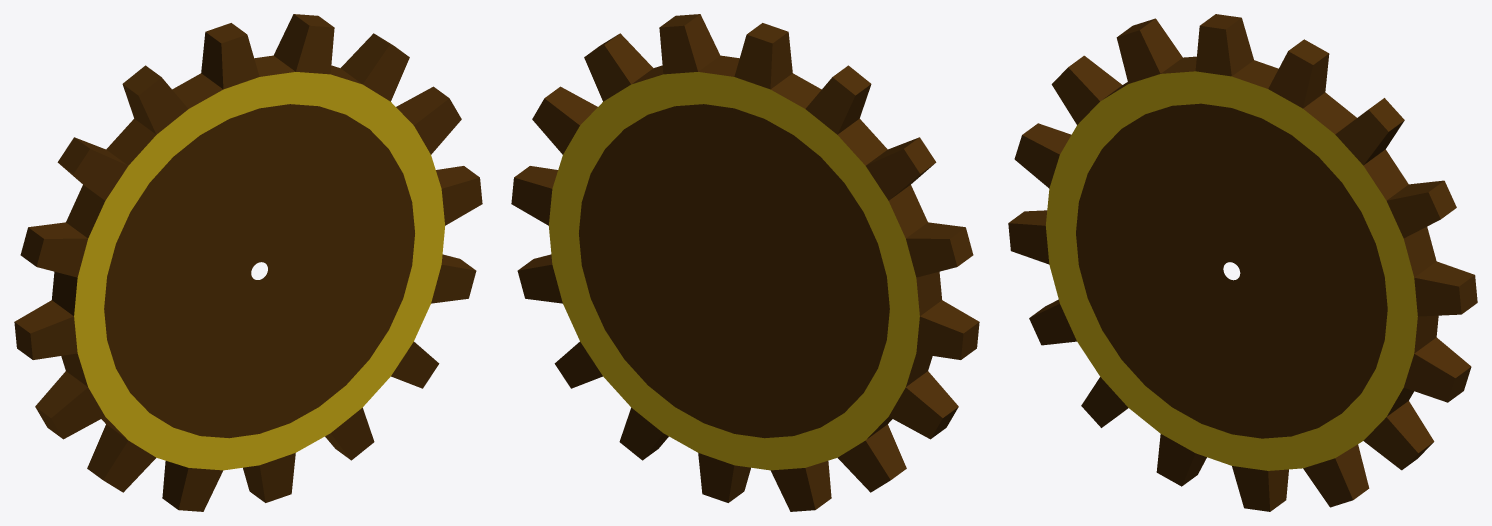
Rendered from Middle Gear.fbx.
3 views of the same model, side by side, from view 1: azimuth 30°, elevation 25°; view 2: azimuth 150°, elevation 25°; view 3: azimuth 330°, elevation 25° (orthographic).
Parts seen in each view (by area): view 1: Cylinder, Cylinder.001; view 2: Cylinder, Cylinder.001; view 3: Cylinder, Cylinder.001.
Boxes of the visible parts, x1,y1,x2,y2 form: Cylinder: (14,14,482,511); Cylinder.001: (74,72,445,470); Cylinder: (511,14,979,511); Cylinder.001: (548,72,919,470); Cylinder: (1008,14,1477,511); Cylinder.001: (1045,71,1417,470).
Bounding box in the file's own units: 944 × 944 × 80.54.
